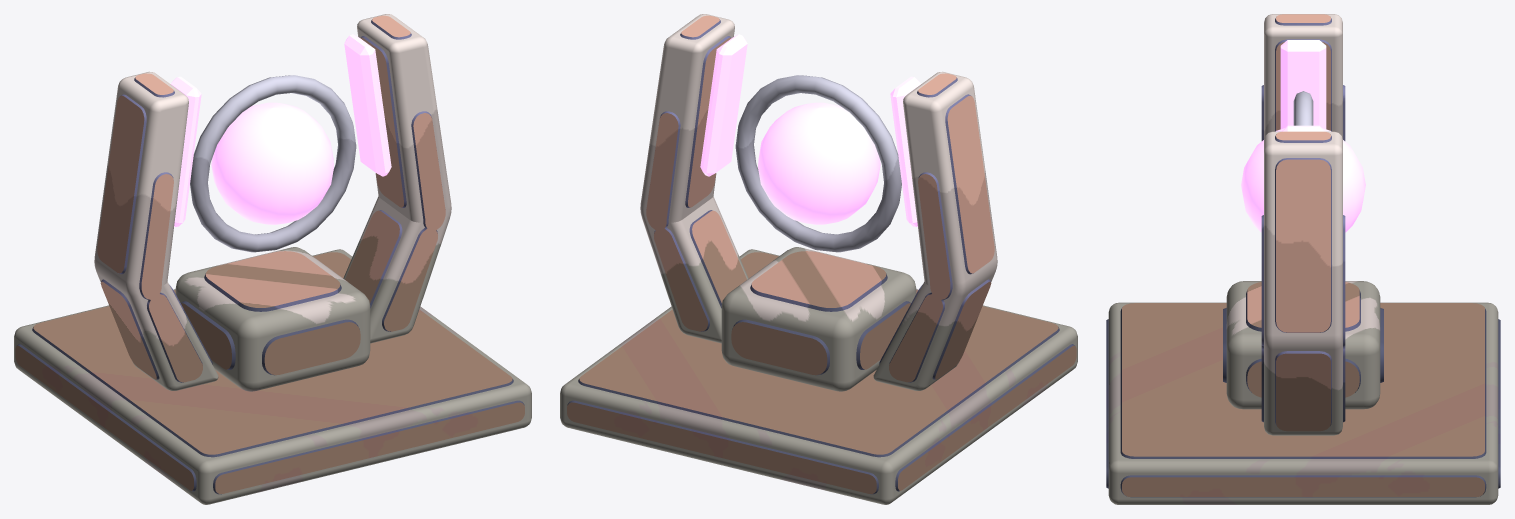
Rendered from R4X_Blink.glb.
3 views of the same model, side by side, from view 1: azimuth 30°, elevation 25°; view 2: azimuth 150°, elevation 25°; view 3: azimuth 270°, elevation 25° (orthographic).
Parts seen in each view (by area): view 1: R4X_Blink_Body; view 2: R4X_Blink_Body; view 3: R4X_Blink_Body.
Boxes of the visible parts, x1,y1,x2,y2 form: R4X_Blink_Body: [14, 14, 531, 504]; R4X_Blink_Body: [560, 14, 1077, 504]; R4X_Blink_Body: [1106, 14, 1500, 504].
Size of the model in its own units: 0.52 by 0.51 by 0.52.
Materials: 5 (4 with a texture image).
